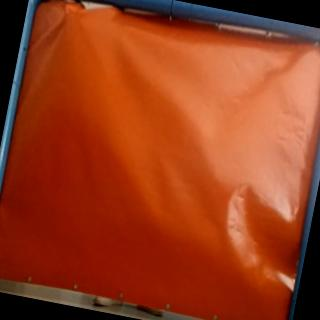Hit-hRxx: (58, 2, 85, 24)
